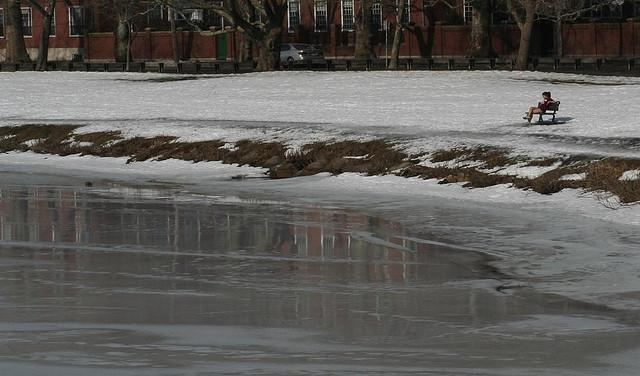car: (281, 44, 304, 66)
